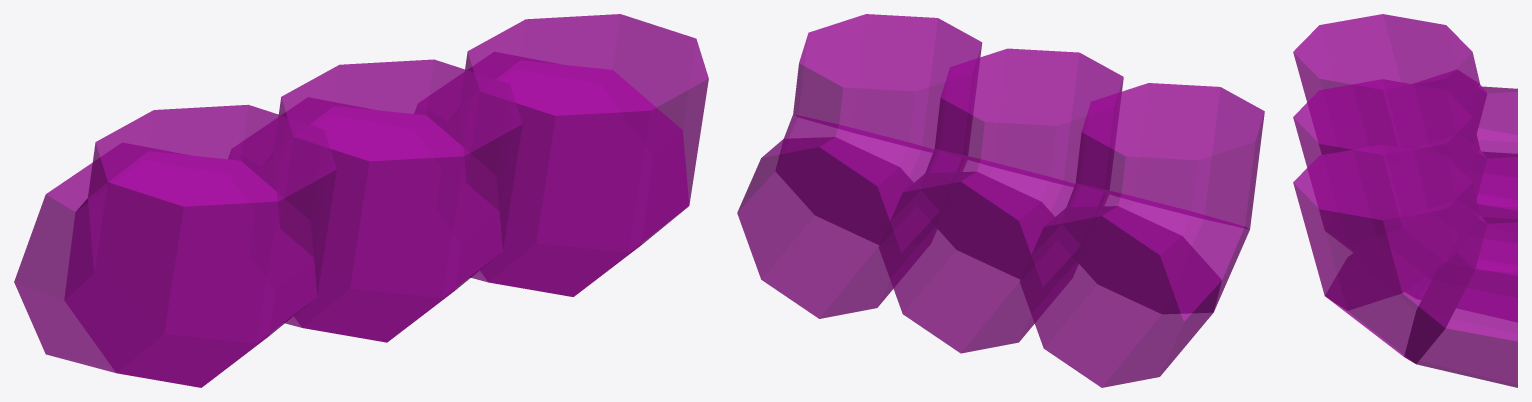
File: SM_Prop_Pipe_Bend_03_Collision.fbx
3 renders of one model, left to right at view 1: azimuth 30°, elevation 25°; view 2: azimuth 150°, elevation 25°; view 3: azimuth 270°, elevation 25°, orthographic. The views are drawn at different scales.
Visible parts, largest first — view 1: SM_Prop_Pipe_Bend_03_Collision; view 2: SM_Prop_Pipe_Bend_03_Collision; view 3: SM_Prop_Pipe_Bend_03_Collision.
Boxes of the visible parts, <box> form: SM_Prop_Pipe_Bend_03_Collision: <box>14,14,708,387</box>; SM_Prop_Pipe_Bend_03_Collision: <box>737,14,1264,387</box>; SM_Prop_Pipe_Bend_03_Collision: <box>1293,14,1517,387</box>.
Bounding box in the file's own units: 45.09 × 20.64 × 20.76.
